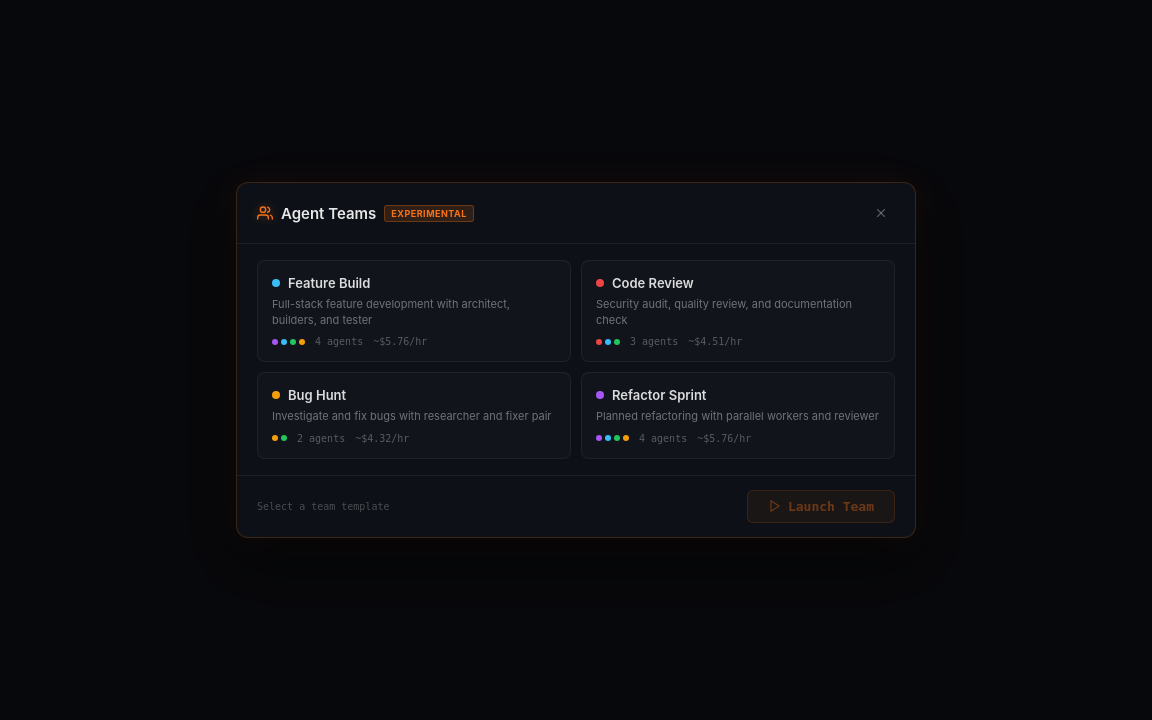
TeamLauncherModal › shows cost estimate in config panel
Click the text "Feature Build": (329, 283) [288, 275, 370, 291]
(page scrolled)
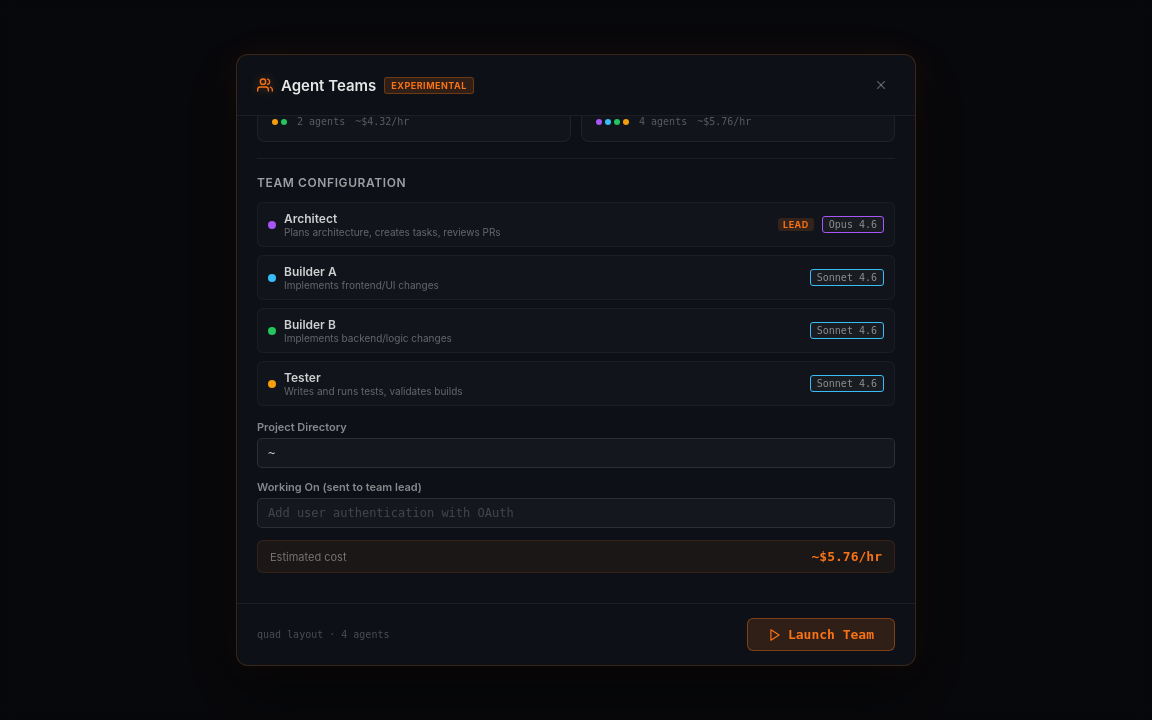
Check: the text with class "team-launcher__cost-value" reads "~$5.76/hr", box [812, 549, 882, 564]
Check: the text "Estimated cost" is shown, box [270, 550, 346, 564]
